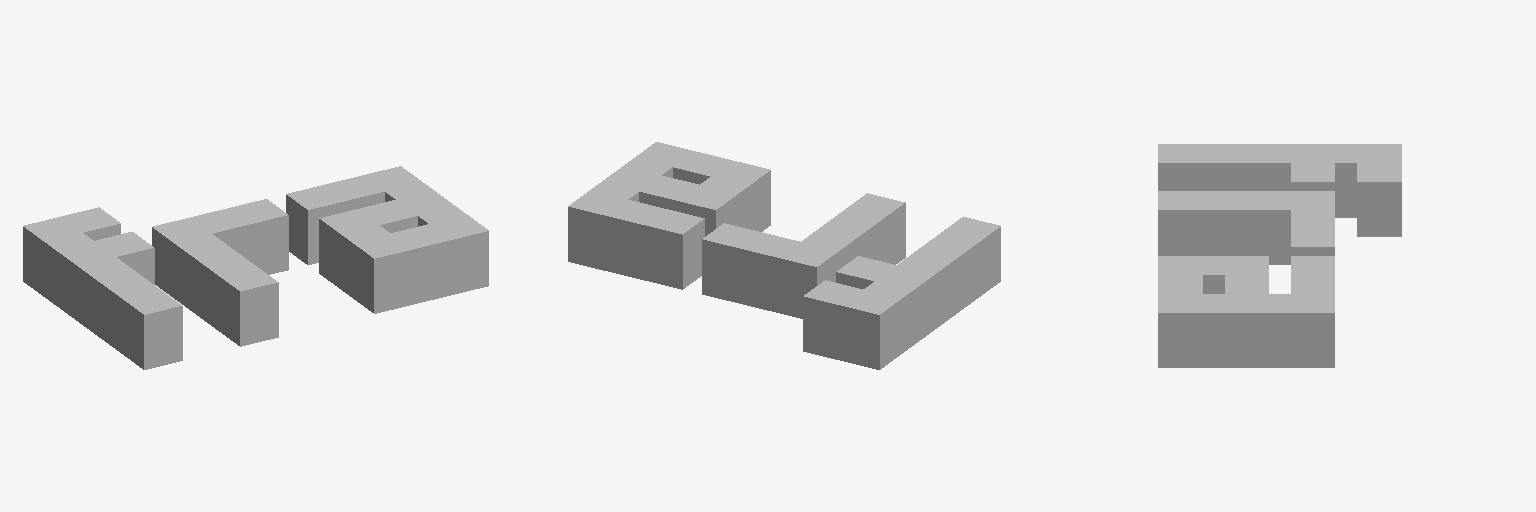
Rendered from fra.obj.
3 renders of one model, left to right at view 1: azimuth 30°, elevation 25°; view 2: azimuth 150°, elevation 25°; view 3: azimuth 270°, elevation 25°, orthographic.
Visible parts, largest first — view 1: Text.001_Mesh.000; view 2: Text.001_Mesh.000; view 3: Text.001_Mesh.000.
Boxes of the visible parts, x1,y1,x2,y2 form: Text.001_Mesh.000: [23, 166, 488, 369]; Text.001_Mesh.000: [568, 142, 1000, 369]; Text.001_Mesh.000: [1158, 144, 1401, 367].
Size of the model in its own units: 1.2 by 0.1836 by 0.7333.